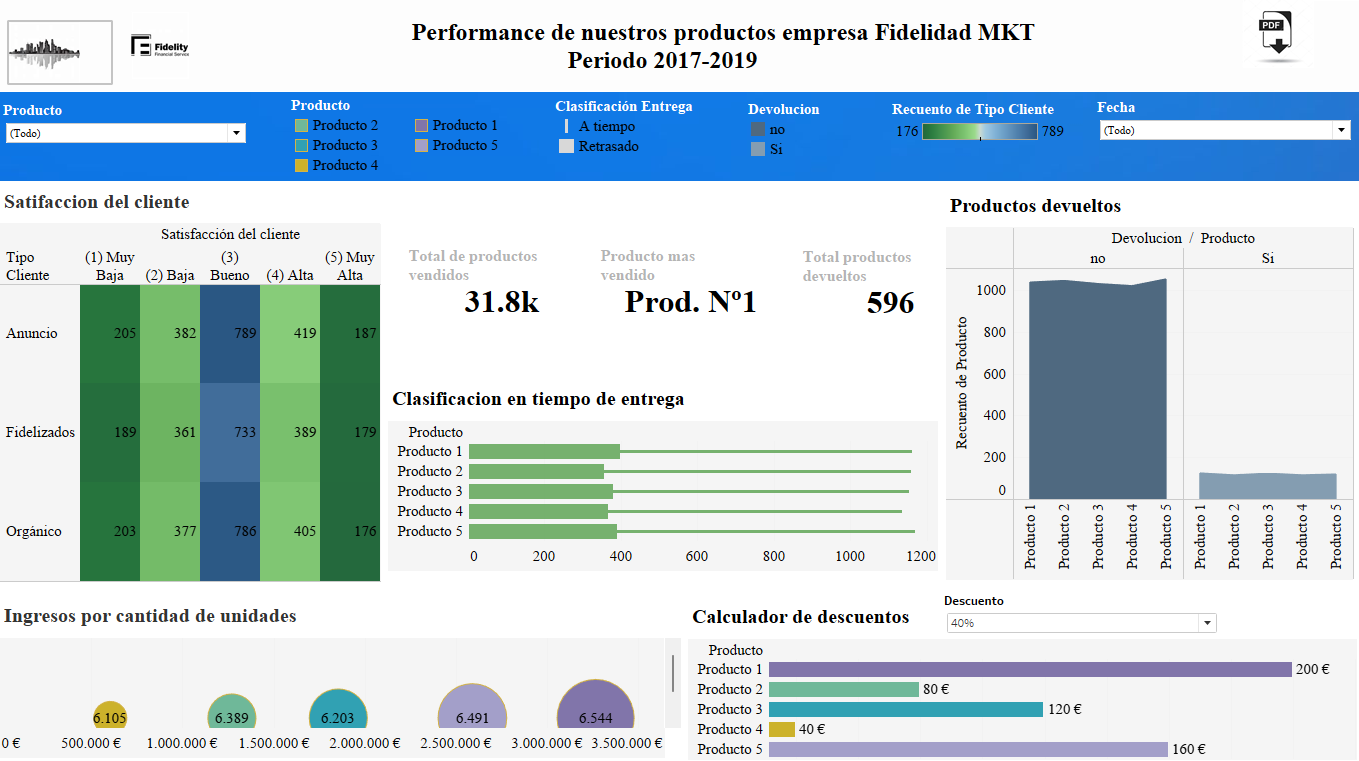

The page's visual inventory and layout, read from the dashboard file:
{"tool":"tableau","page":{"name":"Dashboard 1","canvas":[1366,768],"ordinal":0},"visuals":[{"type":"dashboard-object","box":[1240,3,127,73]},{"type":"blank","box":[0,5,1155,54]},{"type":"image","param":"Image/descarga (1).jpg","box":[134.8,13.8,57.9,76.4]},{"type":"text","box":[469.5,13.8,625.6,68.9]},{"type":"dashboard-object","box":[1210,21,53,39]},{"type":"image","param":"Image/OIP (2).jpg","box":[13,25.1,101.7,61.4]},{"type":"blank","box":[1.2,94,1364.8,52.6]},{"type":"legend","title":"Hoja 13","param":"[federated.1efi7ni1f19sgs1bgq0h21dpx216].[none:Tipo Cliente:nk]","box":[615,99,452,79]},{"type":"legend","title":"Hoja 12","param":"[federated.1efi7ni1f19sgs1bgq0h21dpx216].[sum:Ingresos:qk]","box":[369,100,167,71]},{"type":"legend","title":"if_suma","param":"[federated.1efi7ni1f19sgs1bgq0h21dpx216].[usr:Calculation_683421307607322625:nk]","box":[784,100,185,83]},{"type":"filter","title":"Hoja 12","param":"[federated.1efi7ni1f19sgs1bgq0h21dpx216].[none:Estado:nk]","box":[8,108,332,196]},{"type":"filter","title":"Hoja 12","param":"[federated.1efi7ni1f19sgs1bgq0h21dpx216].[tyr:Fecha:ok]","box":[1010,110,343,48]},{"type":"text","box":[643,221,166,107]},{"type":"text","box":[332,222,248,97]},{"type":"text","box":[520,233,100,30]},{"type":"text","box":[941,236,142,74]},{"type":"worksheet","title":"Hoja 15","mark":"Bar","rows":["Tipo Cliente"],"cols":["Ingresos"],"box":[282,348,856,126]},{"type":"worksheet","title":"Hoja 13","mark":"Automatic","rows":["Tipo Cliente"],"cols":["Estado"],"box":[516,488,623,277]}]}

Visuals, with their boxes in screenshot pixels (x1, y1, x2, y2), scaled from the page's 1366x768 canvas onto the 1359x761 screenshot:
dashboard-object: (x1=1234, y1=3, x2=1358, y2=75)
blank: (x1=0, y1=5, x2=1149, y2=58)
image: (x1=134, y1=14, x2=192, y2=89)
text: (x1=467, y1=14, x2=1089, y2=82)
dashboard-object: (x1=1204, y1=21, x2=1257, y2=59)
image: (x1=13, y1=25, x2=114, y2=86)
blank: (x1=1, y1=93, x2=1358, y2=145)
"Hoja 13" legend: (x1=612, y1=98, x2=1062, y2=176)
"Hoja 12" legend: (x1=367, y1=99, x2=533, y2=169)
"if_suma" legend: (x1=780, y1=99, x2=964, y2=181)
"Hoja 12" filter: (x1=8, y1=107, x2=338, y2=301)
"Hoja 12" filter: (x1=1005, y1=109, x2=1346, y2=157)
text: (x1=640, y1=219, x2=805, y2=325)
text: (x1=330, y1=220, x2=577, y2=316)
text: (x1=517, y1=231, x2=617, y2=261)
text: (x1=936, y1=234, x2=1077, y2=307)
"Hoja 15" worksheet (Bar marks): (x1=281, y1=345, x2=1132, y2=470)
"Hoja 13" worksheet: (x1=513, y1=484, x2=1133, y2=758)
